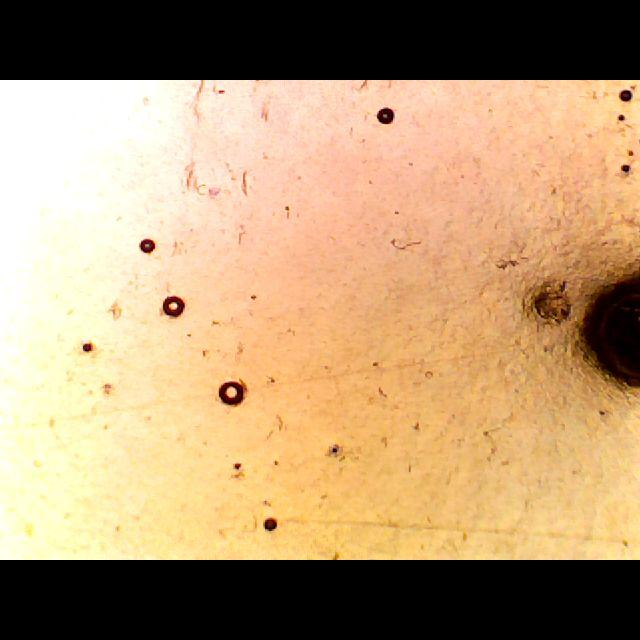microbeads: (215, 381, 245, 405), (162, 294, 188, 318), (374, 106, 394, 126), (136, 239, 156, 255), (261, 516, 279, 532)
